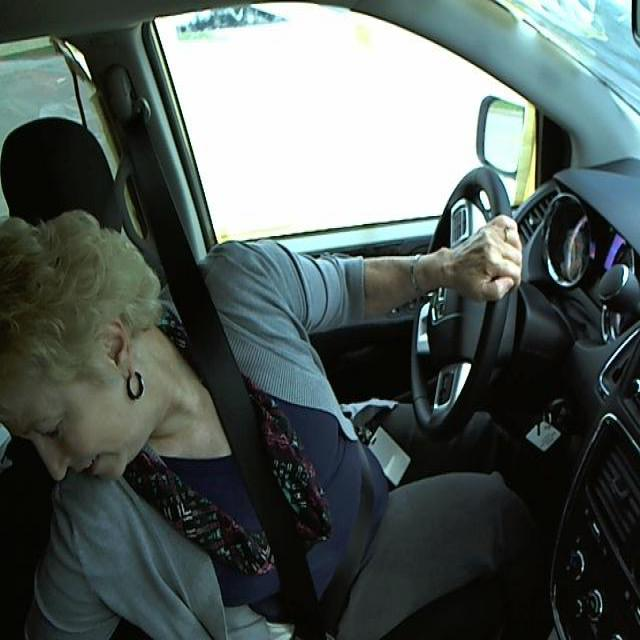seatbelt: (136, 181, 305, 584)
